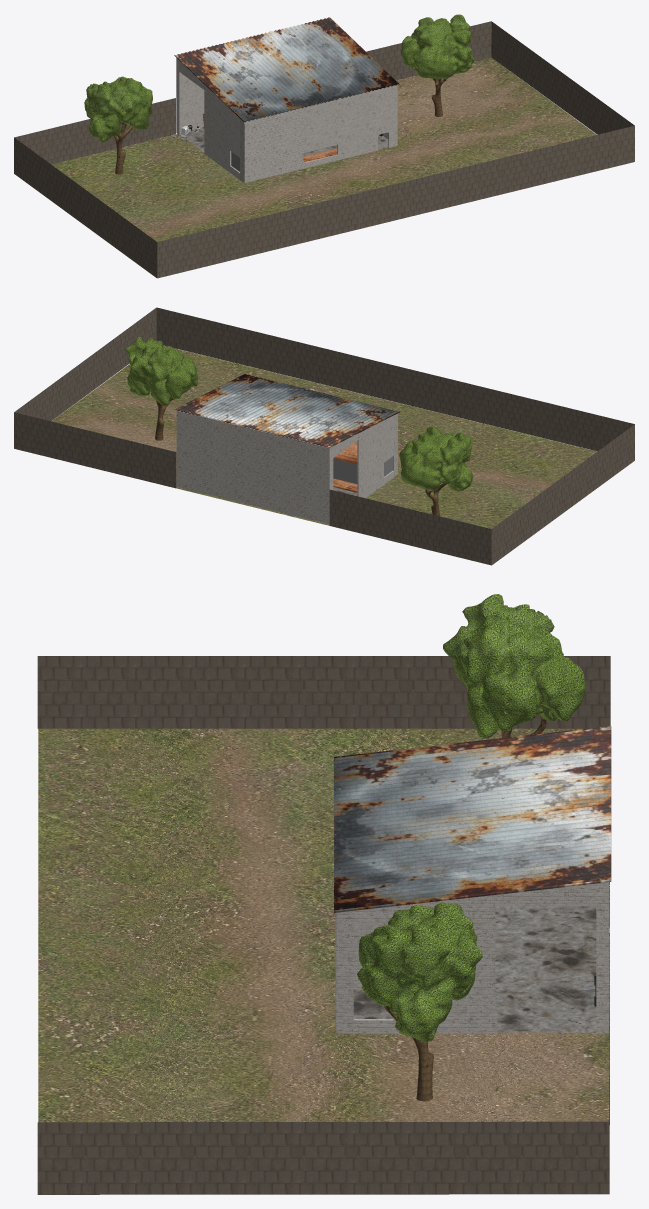
Rendered from Taller Oscar DEFINITIVO.fbx.
3 views of the same model, one above another, from view 1: azimuth 30°, elevation 25°; view 2: azimuth 150°, elevation 25°; view 3: azimuth 270°, elevation 25° (orthographic). The views are drawn at different scales.
Visible parts, largest first — view 1: Taller; view 2: Taller; view 3: Taller.
Boxes of the visible parts, x1,y1,x2,y2 form: Taller: [14, 14, 634, 278]; Taller: [14, 307, 634, 565]; Taller: [37, 594, 611, 1194].
Size of the model in its own units: 34.25 by 6.7 by 17.8.
